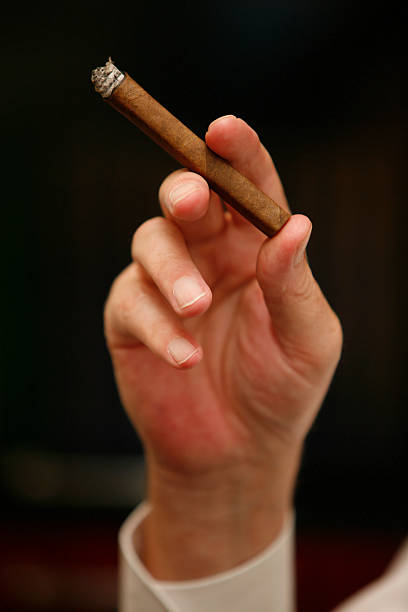cigarette: (92, 59, 293, 233)
